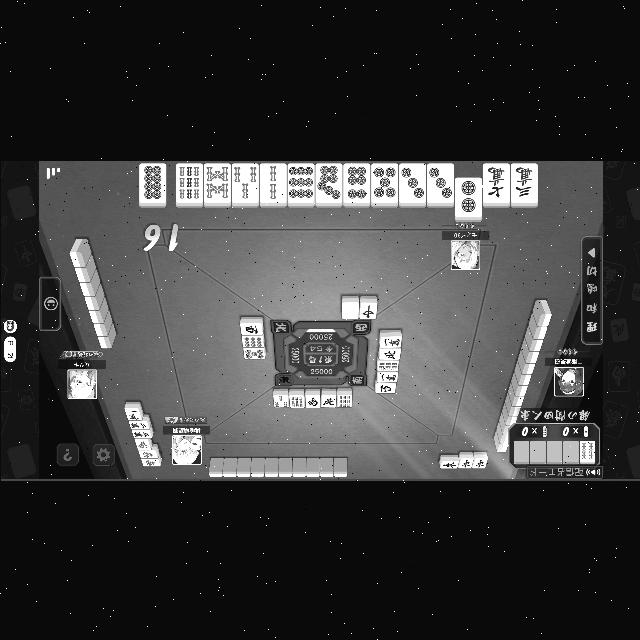1m: (381, 338, 399, 347), (125, 409, 138, 419), (379, 373, 395, 381)
2m: (130, 420, 146, 428)
2p: (458, 179, 478, 213)
2s: (260, 164, 284, 200)
3m: (512, 165, 532, 197), (132, 431, 148, 437)
3p: (428, 165, 452, 199), (400, 165, 424, 199)
3s: (232, 164, 256, 200), (274, 394, 286, 406)
4s: (580, 441, 592, 459)
5s: (372, 165, 396, 197), (244, 348, 262, 358)
6p: (344, 165, 368, 199)
7m: (485, 165, 505, 197)
7p: (316, 164, 340, 200)
8p: (141, 165, 163, 199)
8s: (204, 164, 228, 200)
9p: (288, 165, 312, 199), (242, 336, 262, 346)
9s: (177, 164, 201, 200), (378, 362, 396, 371), (290, 395, 302, 407), (337, 394, 349, 406)
chun: (362, 302, 374, 318)
haku: (343, 302, 357, 318)
hatsu: (140, 450, 154, 458), (136, 440, 148, 448), (144, 459, 156, 465)
nan: (306, 394, 318, 406)
pe: (380, 349, 396, 358), (322, 396, 334, 406)
sha: (242, 323, 258, 333), (378, 383, 392, 392)
tou: (440, 460, 456, 468), (460, 458, 470, 468), (474, 458, 484, 468)
